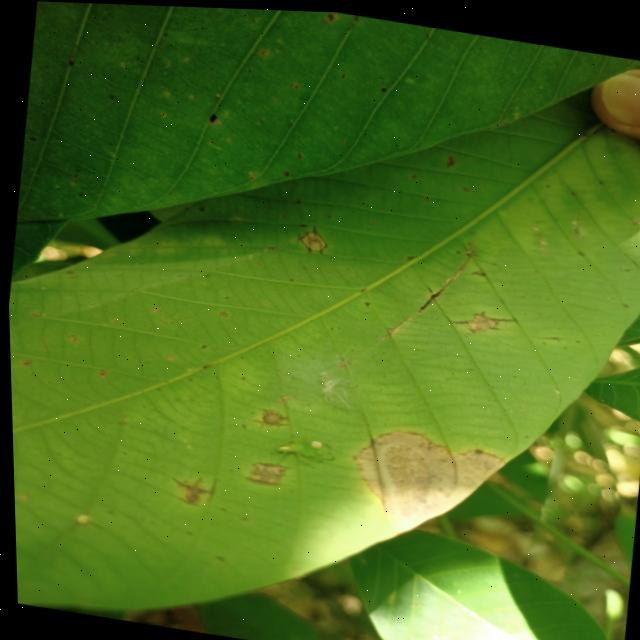Corynespora: (444, 302, 516, 334), (165, 470, 213, 507), (250, 403, 288, 431)
Leaf-Blight: (342, 420, 507, 547), (634, 206, 640, 258)
